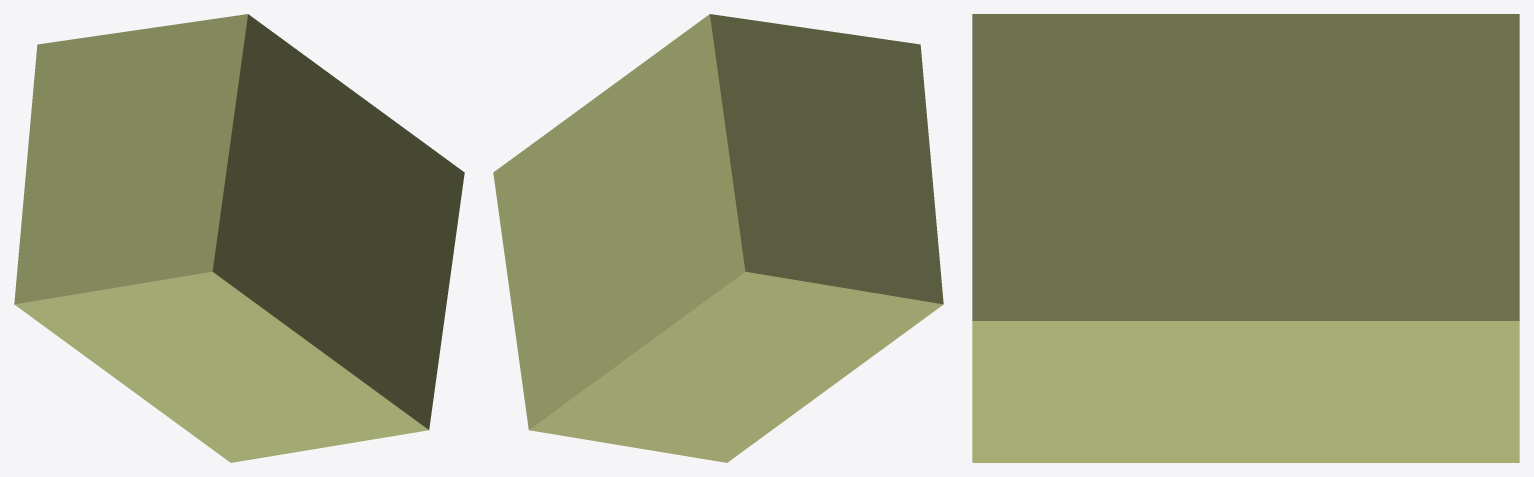
3 renders of one model, left to right at view 1: azimuth 30°, elevation 25°; view 2: azimuth 150°, elevation 25°; view 3: azimuth 270°, elevation 25°, orthographic. The views are drawn at different scales.
Parts seen in each view (by area): view 1: 0_2_3_2_1_2_0_3_1_1_0_1; view 2: 0_2_3_2_1_2_0_3_1_1_0_1; view 3: 0_2_3_2_1_2_0_3_1_1_0_1.
Boxes of the visible parts, box(x1,y1,x2,y2) form: 0_2_3_2_1_2_0_3_1_1_0_1: box(14, 14, 464, 462); 0_2_3_2_1_2_0_3_1_1_0_1: box(493, 14, 943, 462); 0_2_3_2_1_2_0_3_1_1_0_1: box(972, 14, 1519, 462).
Bounding box in the file's own units: 3.74 × 4.13 × 6.
